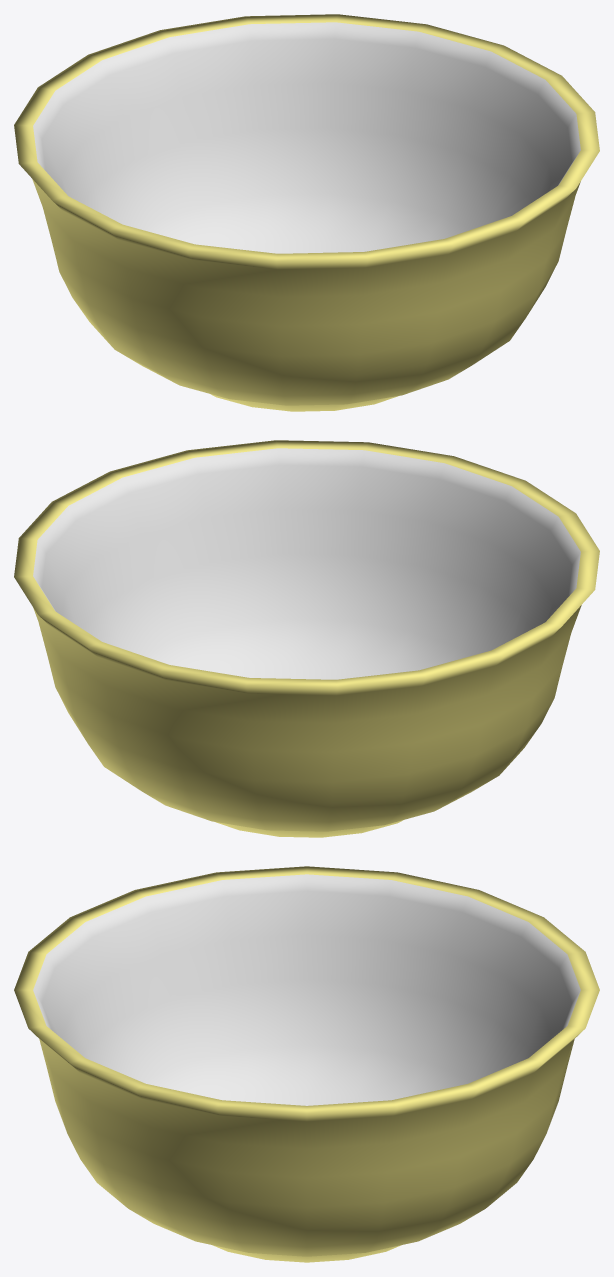
Rendered from Bowl_MDL.fbx.
3 renders of one model, top to bottom at view 1: azimuth 30°, elevation 25°; view 2: azimuth 150°, elevation 25°; view 3: azimuth 270°, elevation 25°, orthographic.
Parts seen in each view (by area): view 1: bowl; view 2: bowl; view 3: bowl.
Part boxes in pixels (x1,y1,x2,y2): bowl: (14,14,599,411); bowl: (14,440,599,837); bowl: (14,866,599,1262).
Size of the model in its own units: 20.24 by 8.22 by 20.24.
